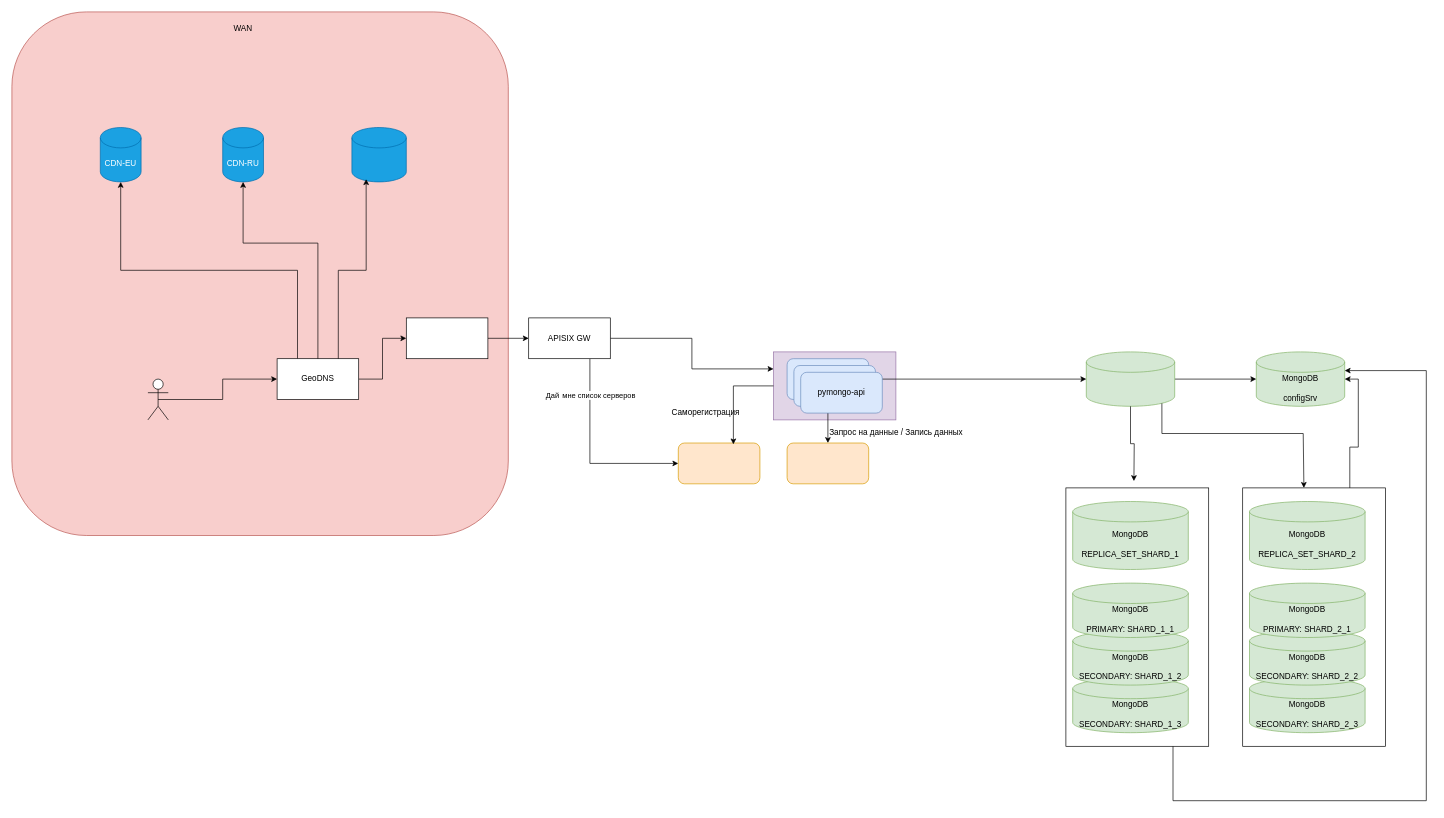
The diagram is 1444 pixels wide and 818 high, and some of its shapes have lost their labels. Here are the shapes that lost their labels. From the top down, the centre of each, then its label:
At (x=378, y=154): "CDN-CHINA".
At (x=447, y=338): "NGINX HTTPS".
At (x=1130, y=378): "MongoDB MONGOS_ROUTER".
At (x=719, y=463): "CONSUL".
At (x=827, y=463): "REDIS redis-node-1".
